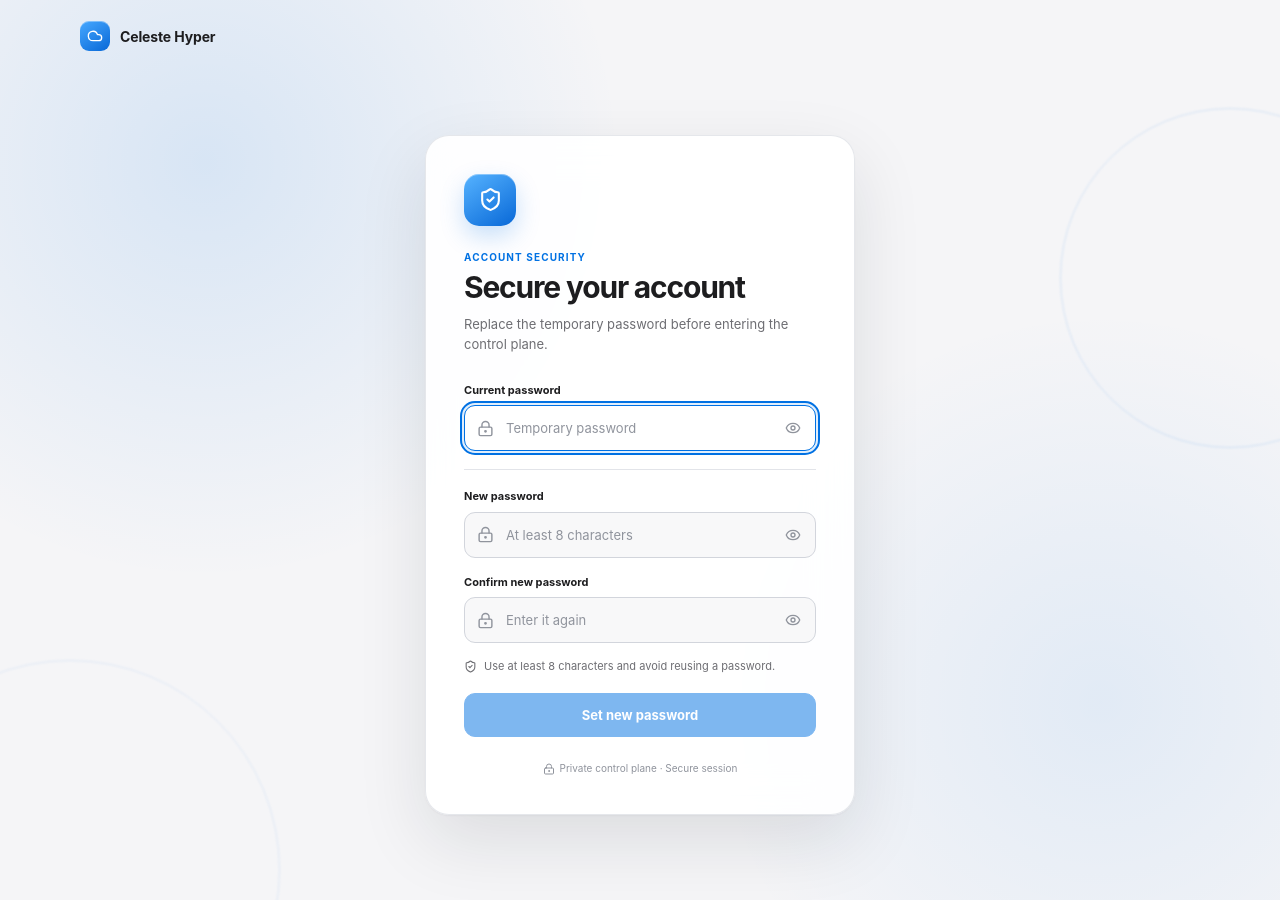
ChangePassword › does not submit when the confirmation differs
Type "admin" into the password field labelled "Current password".
click(640, 428); type("admin")  # box [464,405,816,451]
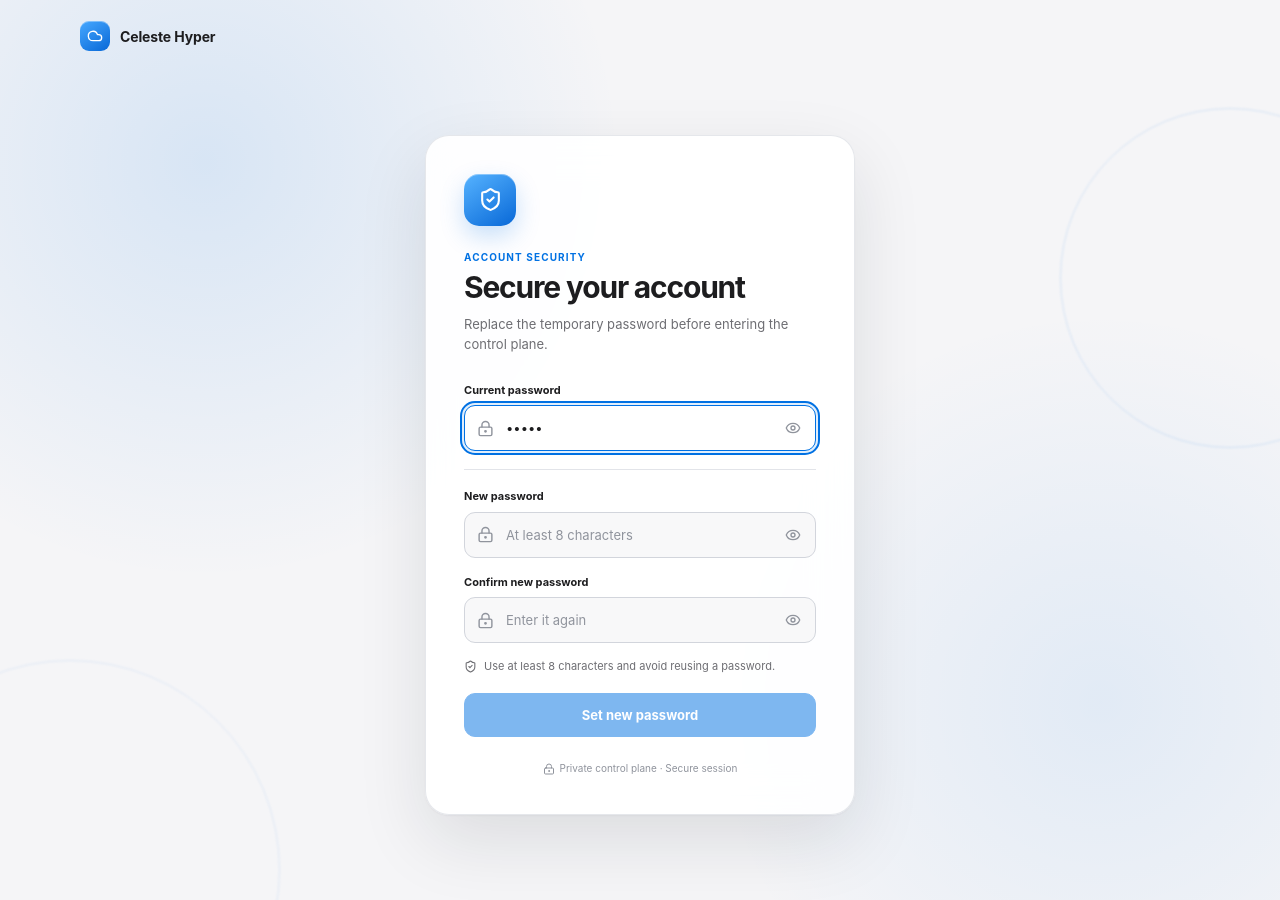
Type "a-new-strong-pw" into the password field labelled "New password".
click(640, 535); type("a-new-strong-pw")  # box [464,512,816,558]
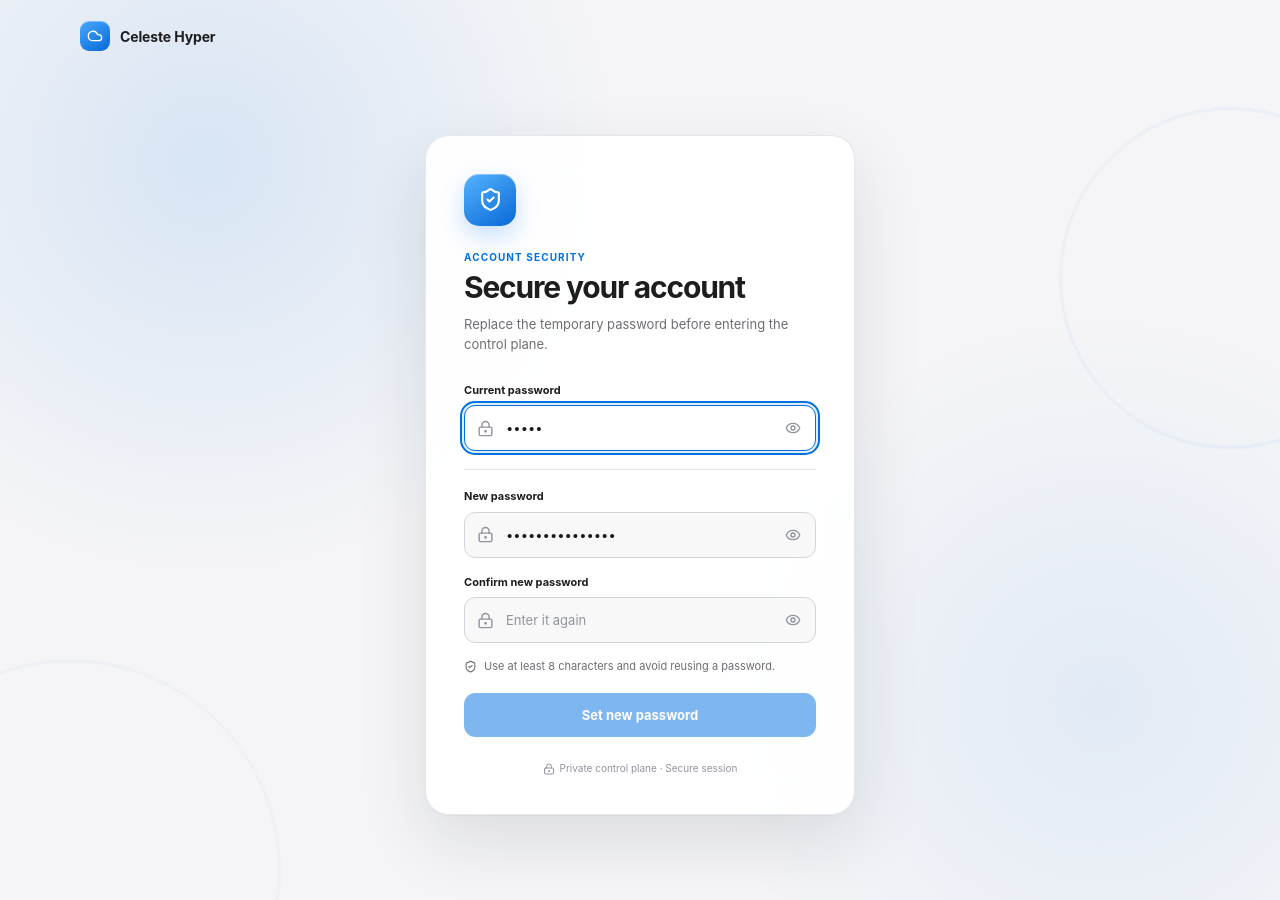
Type "another-password" into the password field labelled "Confirm new password".
click(640, 620); type("another-password")  # box [464,597,816,643]
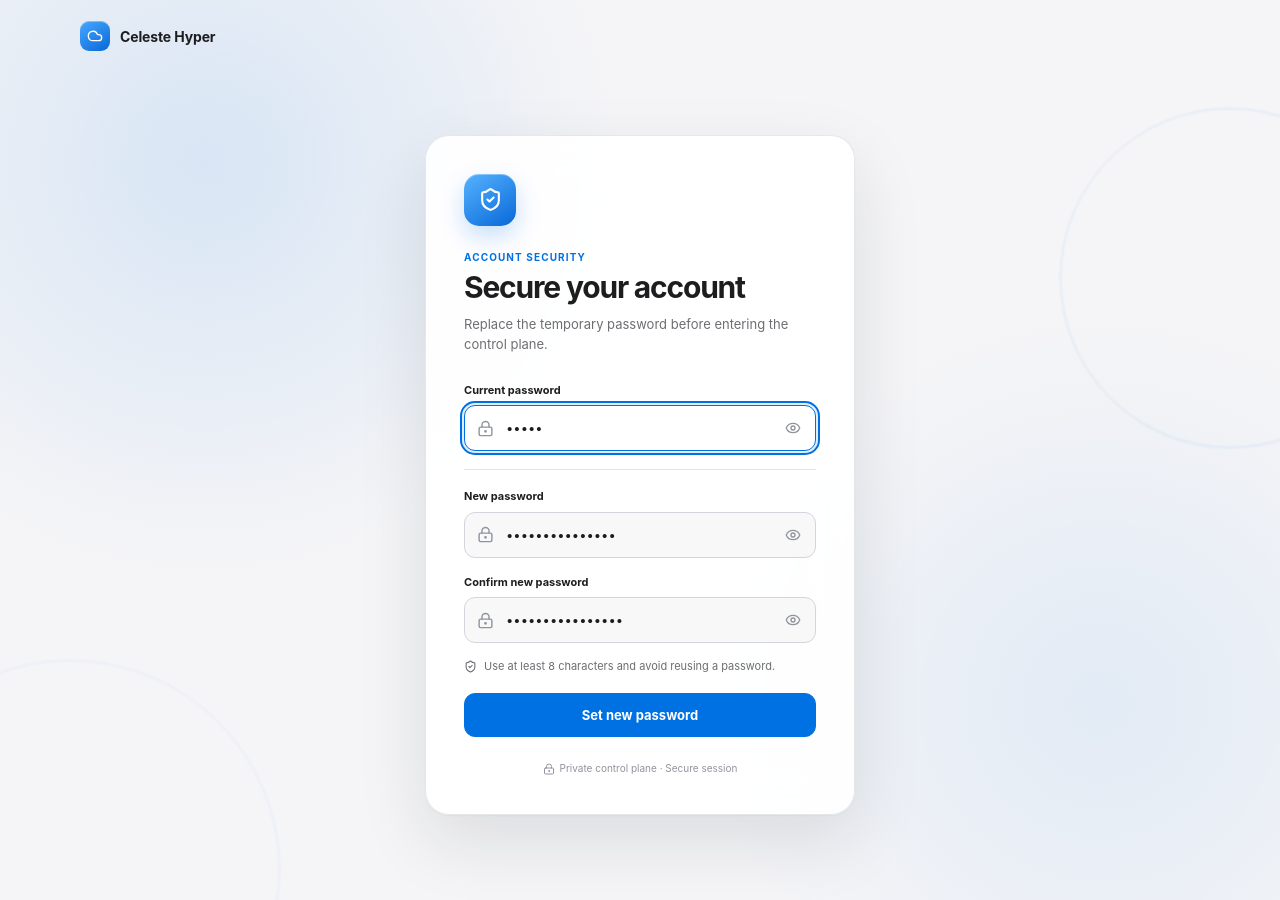
Click the button "Set new password".
click(640, 715)  # box [464,693,816,737]
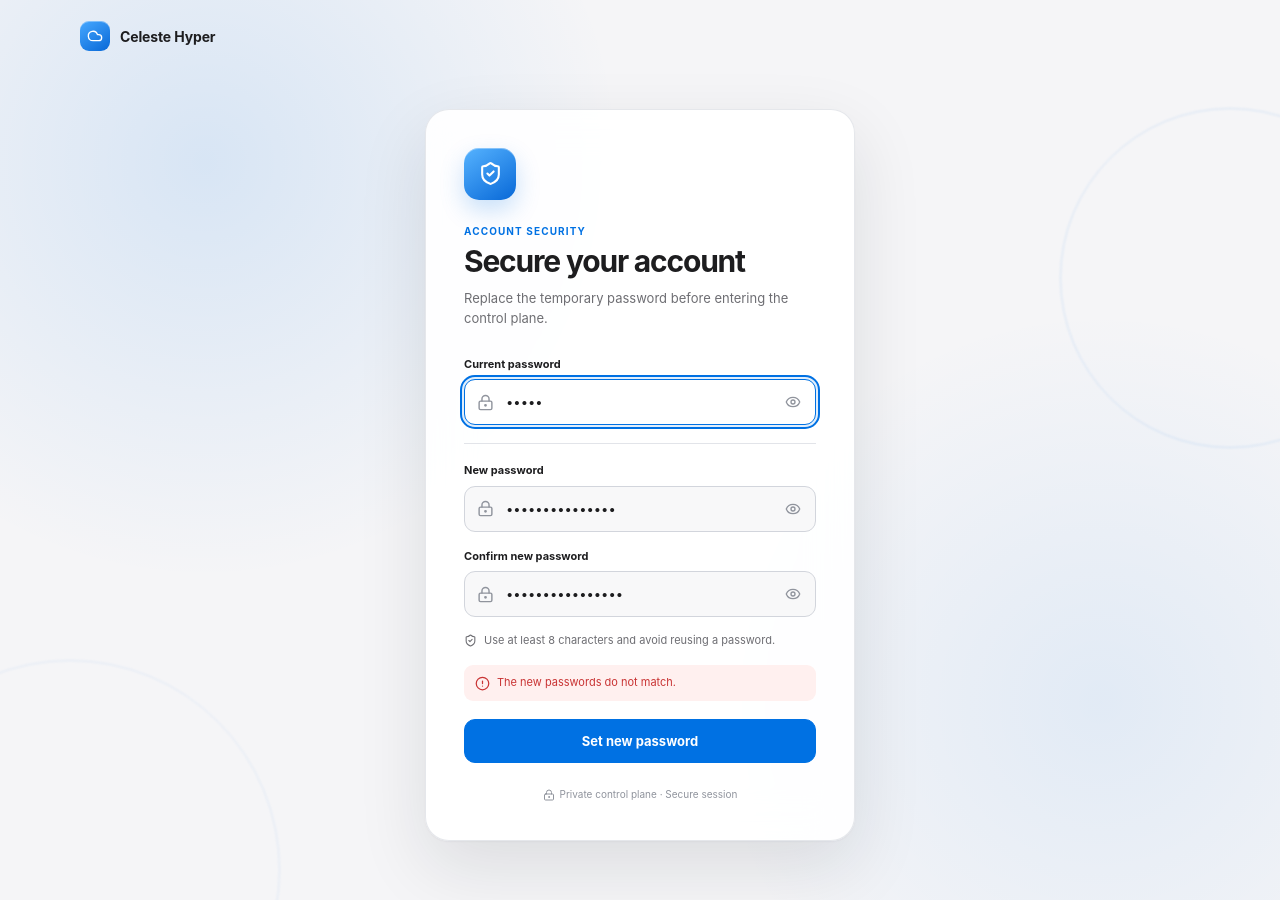
Check: the message shows "do not match", box [497,675,676,689]
